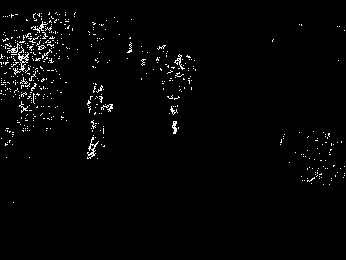person: (86, 82, 113, 160)
